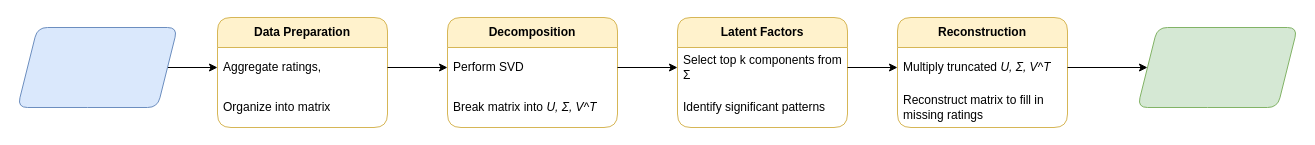
Some shapes in this 1315 by 145 pixel diagram are drawn without their labels. The centre of each missing label's shape, as x and y in pixels:
Final Dataset: point 97,67
Recommendation: point 1217,67
